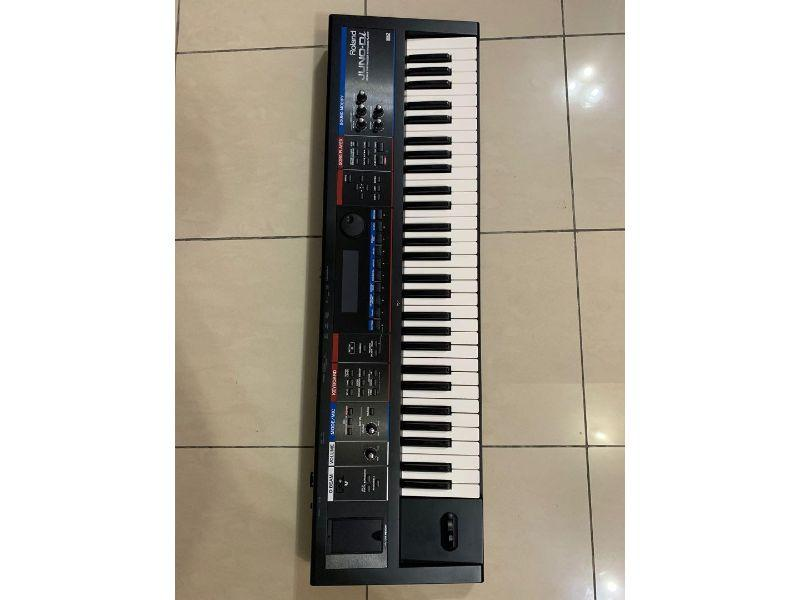synthesizer: (308, 3, 491, 585)
